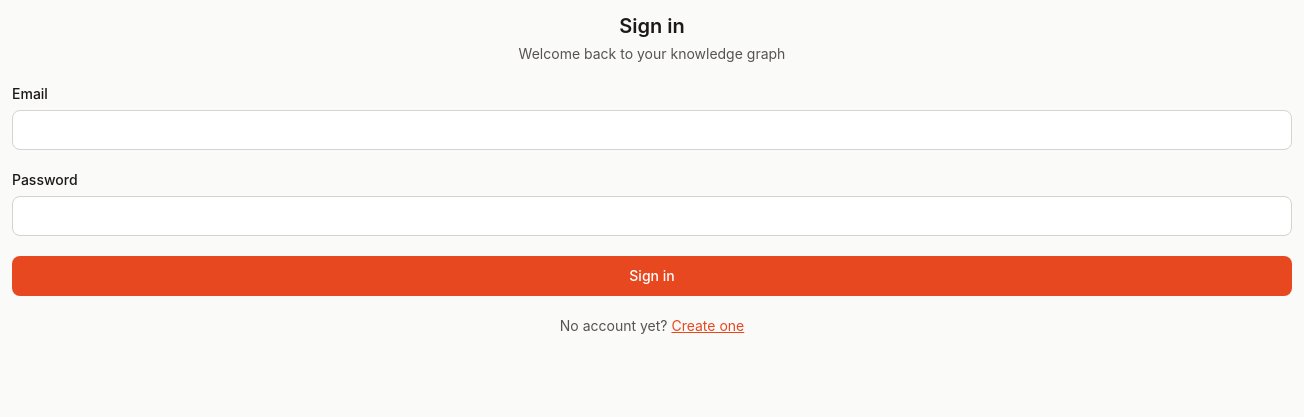
Test: LoginForm › shows one generic message for wrong credentials
This screenshot has width=1304, height=417.
Type "alice@example.com" into the field labelled "Email". click: coordinates (652, 130)
box: [12, 110, 1292, 150]
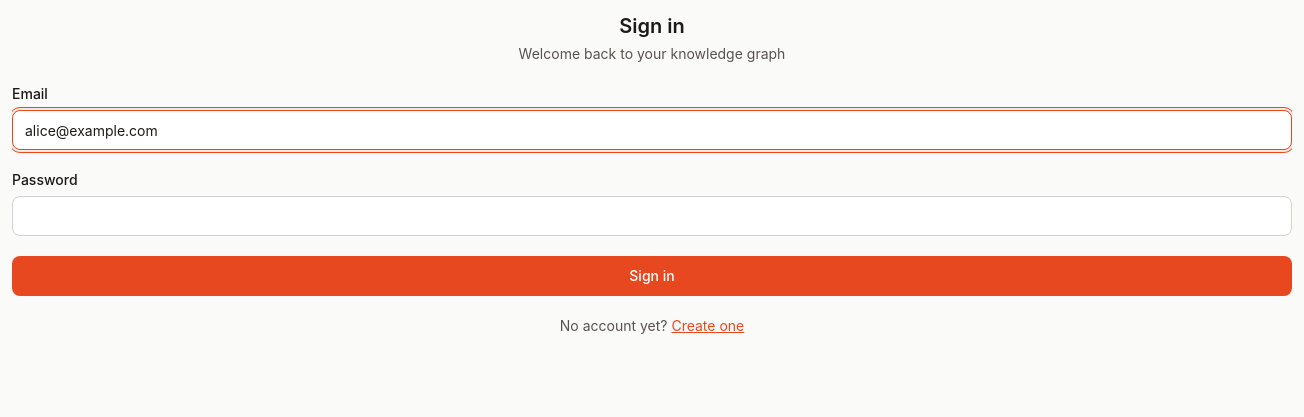
Type "correct horse" into the password field labelled "Password". click: coordinates (652, 216)
box: [12, 196, 1292, 236]
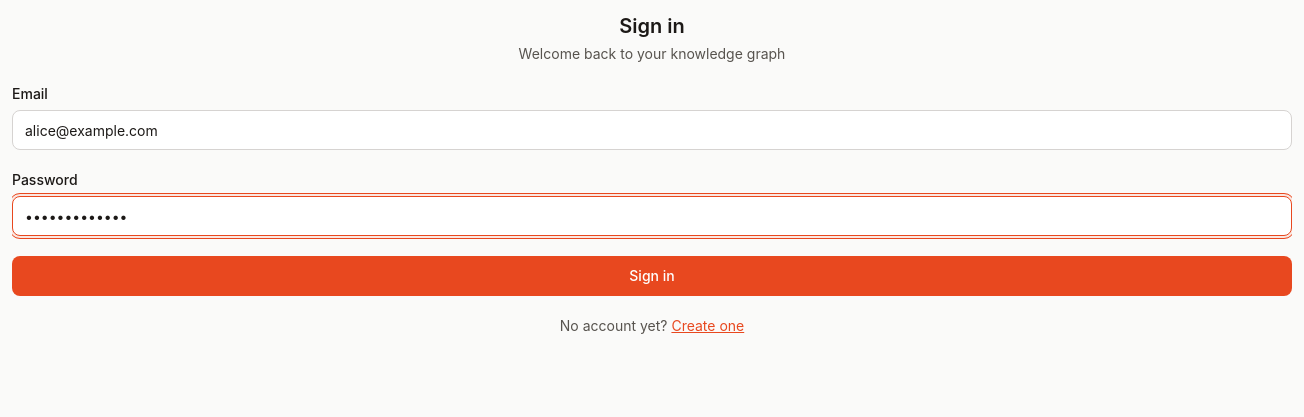
Click the button "Sign in". click: coordinates (652, 276)
box: [12, 256, 1292, 296]
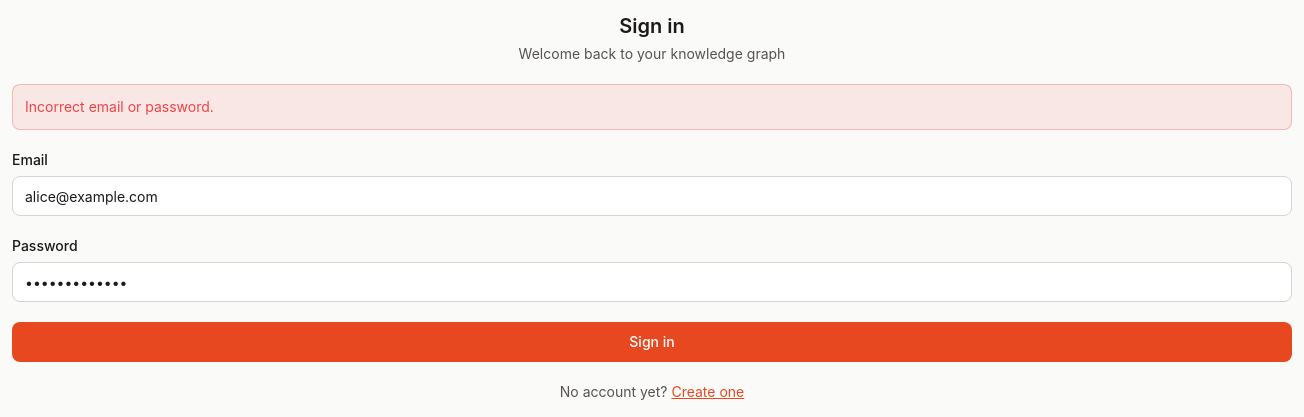
Expected: the button "Sign in" is enabled, [12, 322, 1292, 362]
Expected: the message reads "Incorrect email or password.", [25, 98, 214, 115]
